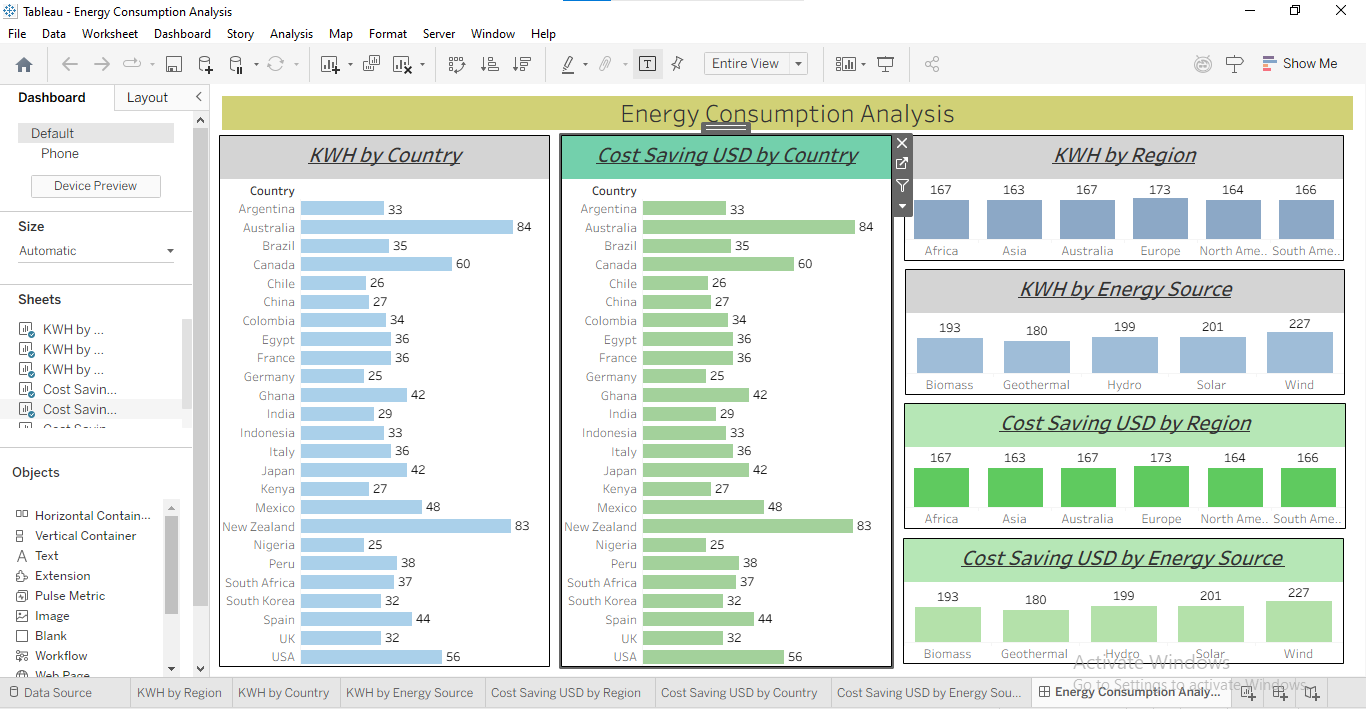

This screenshot's page, from the dashboard's own definition file:
{"tool":"tableau","page":{"name":"Energy Consumption Analysis","canvas":[1000,1000],"units":"permille","ordinal":0},"visuals":[{"type":"title","box":[6.9,13.5,986.1,70.9]},{"type":"worksheet","title":"KWH by Country","mark":"Automatic","rows":["Country"],"cols":["Monthly_Usage_kWh"],"box":[7.8,86.2,286.6,898.6]},{"type":"worksheet","title":"Cost Saving USD by Country","mark":"Automatic","rows":["Country"],"cols":["Cost_Savings_USD"],"box":[303.9,86.2,286.6,898.6]},{"type":"worksheet","title":"KWH by Region","mark":"Automatic","rows":["Monthly_Usage_kWh"],"cols":["Region"],"box":[600.9,86.2,380.9,212.8]},{"type":"worksheet","title":"KWH by Energy Source","mark":"Automatic","rows":["Monthly_Usage_kWh"],"cols":["Energy_Source"],"box":[601.7,312.5,380.9,212.8]},{"type":"worksheet","title":"Cost Saving USD by Region","mark":"Automatic","rows":["Cost_Savings_USD"],"cols":["Region"],"box":[600.9,538.9,382.7,212.8]},{"type":"worksheet","title":"Cost Saving USD by Energy Source ","mark":"Automatic","rows":["Cost_Savings_USD"],"cols":["Energy_Source"],"box":[600,766.9,381.8,212.8]}]}

Visuals, with their boxes on the dashboard's canvas, which has no fixed pixel size, in thousandths of its width and height (x1, y1, x2, y2). These are canvas units, not pixel positions in the 1366x709 screenshot, which may show the page scaled, cropped or inside an application window:
title: box(7, 14, 993, 84)
"KWH by Country" worksheet: box(8, 86, 294, 985)
"Cost Saving USD by Country" worksheet: box(304, 86, 590, 985)
"KWH by Region" worksheet: box(601, 86, 982, 299)
"KWH by Energy Source" worksheet: box(602, 312, 983, 525)
"Cost Saving USD by Region" worksheet: box(601, 539, 984, 752)
"Cost Saving USD by Energy Source " worksheet: box(600, 767, 982, 980)
